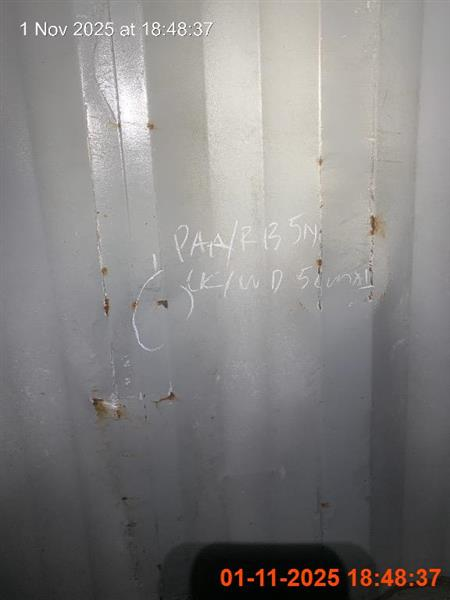hole: (168, 540, 380, 599)
